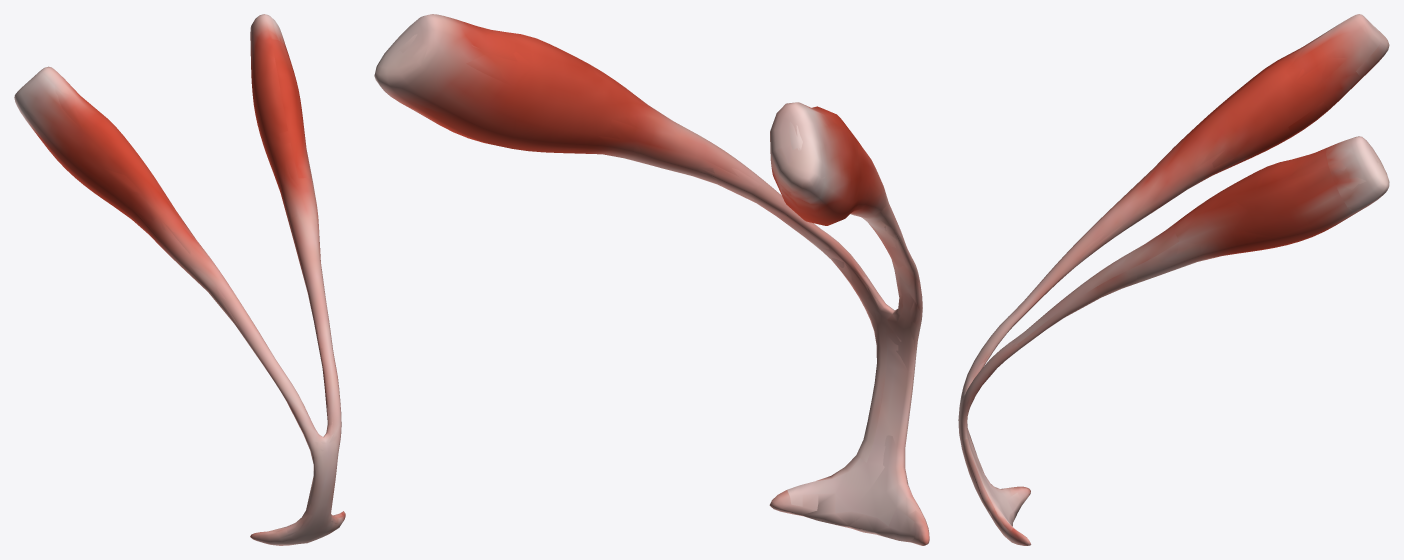
Rendered from Proprius Superioris Labii Levator.fbx.
3 renders of one model, left to right at view 1: azimuth 30°, elevation 25°; view 2: azimuth 150°, elevation 25°; view 3: azimuth 270°, elevation 25°, orthographic. The views are drawn at different scales.
Visible parts, largest first — view 1: Proprius Superioris Labii Levator, Proprius Superioris Labii Levator low; view 2: Proprius Superioris Labii Levator, Proprius Superioris Labii Levator low; view 3: Proprius Superioris Labii Levator, Proprius Superioris Labii Levator low.
Boxes of the visible parts, bbox=[...] form: Proprius Superioris Labii Levator: bbox=[14, 14, 345, 545]; Proprius Superioris Labii Levator low: bbox=[19, 35, 344, 544]; Proprius Superioris Labii Levator: bbox=[374, 14, 929, 545]; Proprius Superioris Labii Levator low: bbox=[375, 17, 927, 545]; Proprius Superioris Labii Levator: bbox=[958, 14, 1389, 545]; Proprius Superioris Labii Levator low: bbox=[960, 18, 1386, 538].
Size of the model in its own units: 17.83 by 25.41 by 21.83.
